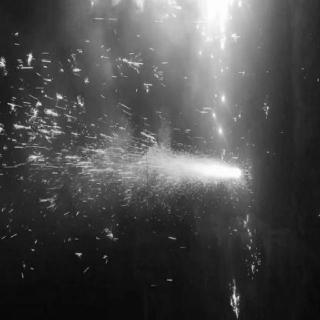Fire: (153, 153, 241, 186)
